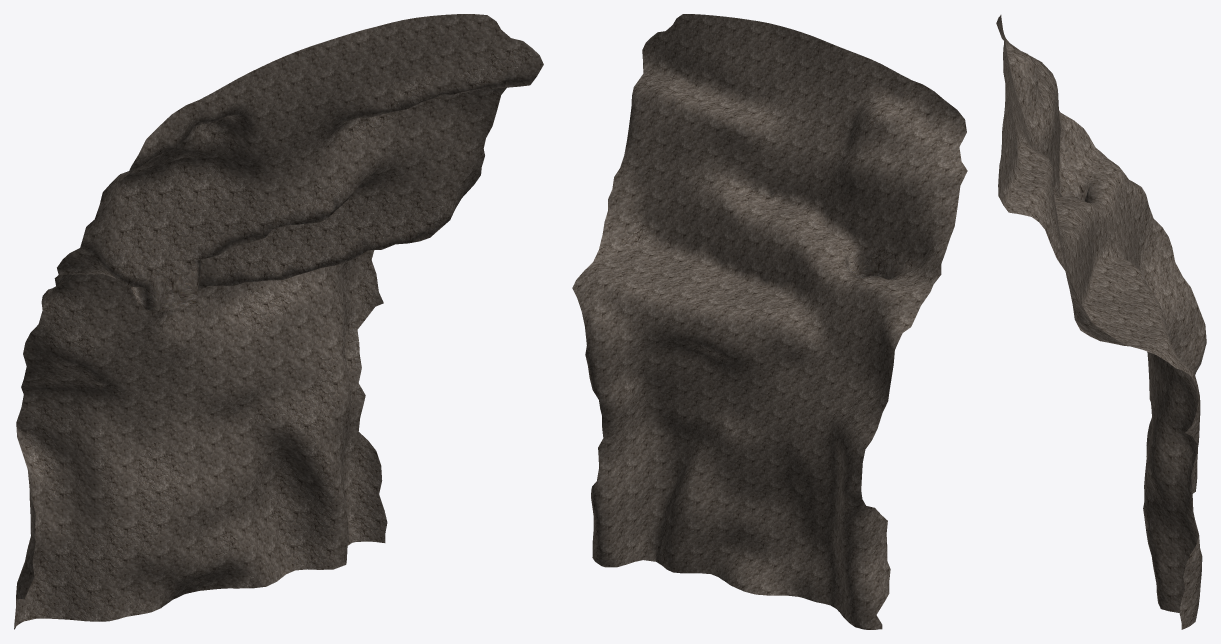
File: wall.dae
3 views of the same model, side by side, from view 1: azimuth 30°, elevation 25°; view 2: azimuth 150°, elevation 25°; view 3: azimuth 270°, elevation 25° (orthographic). The views are drawn at different scales.
Visible parts, largest first — view 1: wall1; view 2: wall1; view 3: wall1.
Part boxes in pixels (box(x1,y1,x2,y2)): wall1: box(14, 14, 543, 629); wall1: box(572, 14, 967, 629); wall1: box(996, 15, 1206, 629).
Bounding box in the file's own units: 51.94 × 26.48 × 71.61.
